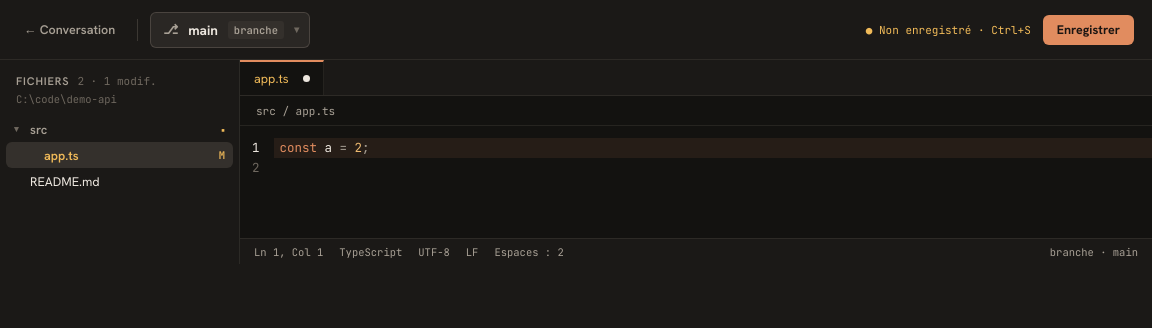
EditorView › warns when the file changed on disk, and reloads it
Click the button "Enregistrer". click: (1088, 30)
box: [1043,14,1134,44]
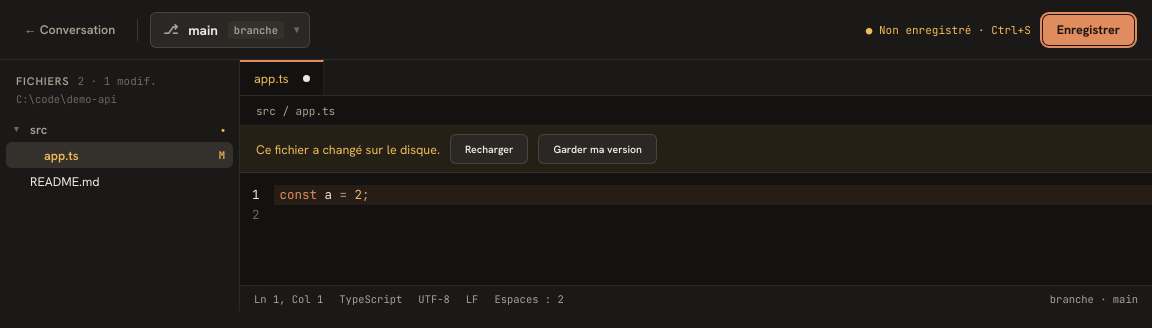
Check: the message shows "Ce fichier a changé sur le disque.", box [256,140,440,158]
Click the button "Recharger". click: (489, 149)
box: [450,134,528,164]
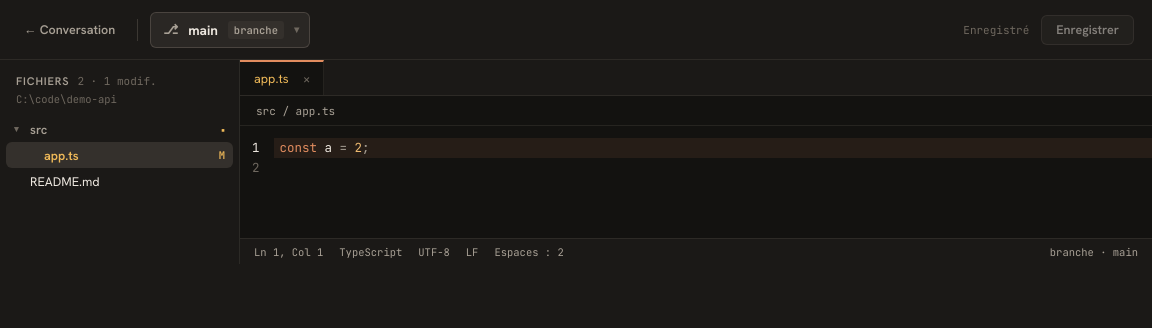
Check: the message "Ce fichier a changé sur le disque. Recharger Garder ma version" is gone
